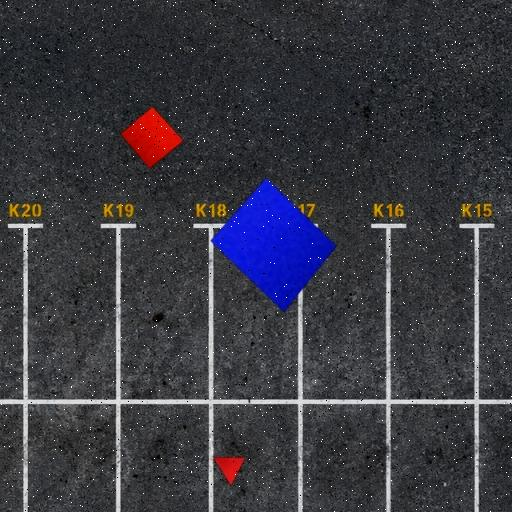BLUE_SQUARE: (210, 178, 338, 314)
RED_SQUARE: (120, 106, 184, 170)
